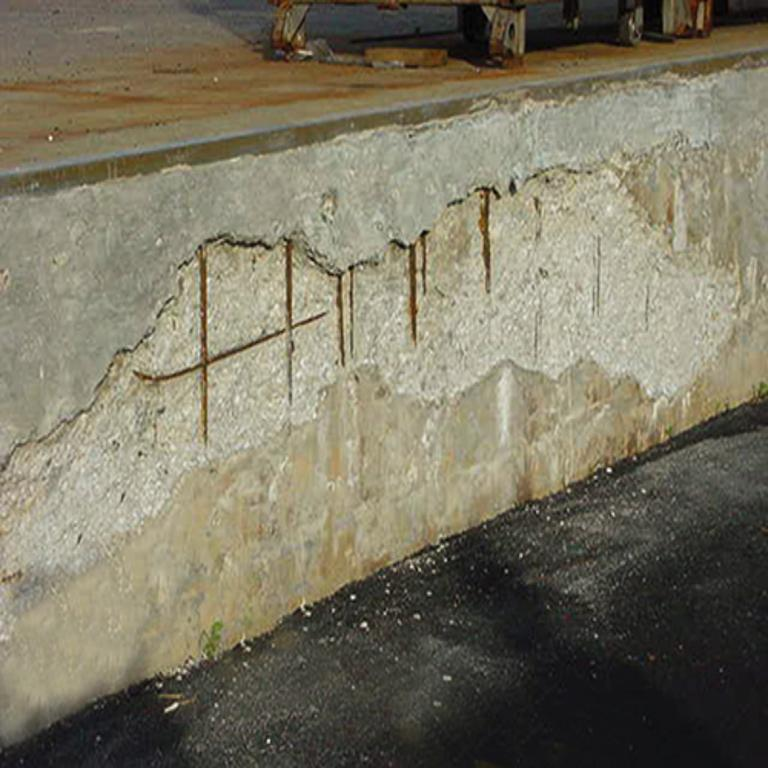exposed_rebar: (134, 240, 326, 444), (478, 190, 492, 292), (408, 243, 417, 345), (336, 273, 344, 366), (420, 231, 429, 296), (350, 266, 354, 358)
